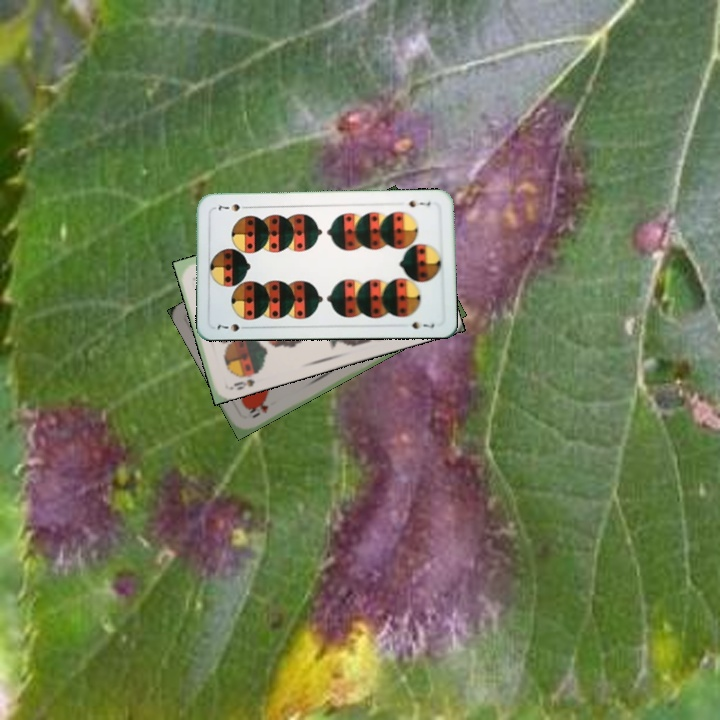HO: (245, 399, 271, 421)
S7: (213, 319, 252, 334), (405, 197, 433, 210)
SO: (225, 366, 263, 393)
